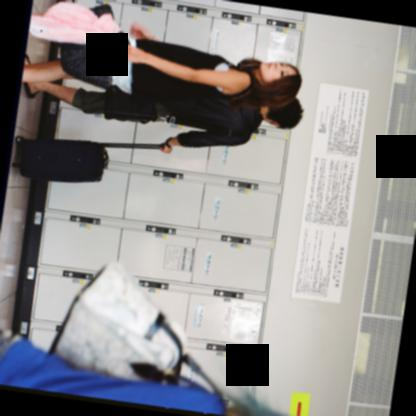backpack: (43, 255, 220, 389)
handbag: (45, 259, 224, 399), (58, 5, 127, 90)
suitcase: (9, 134, 159, 181)
